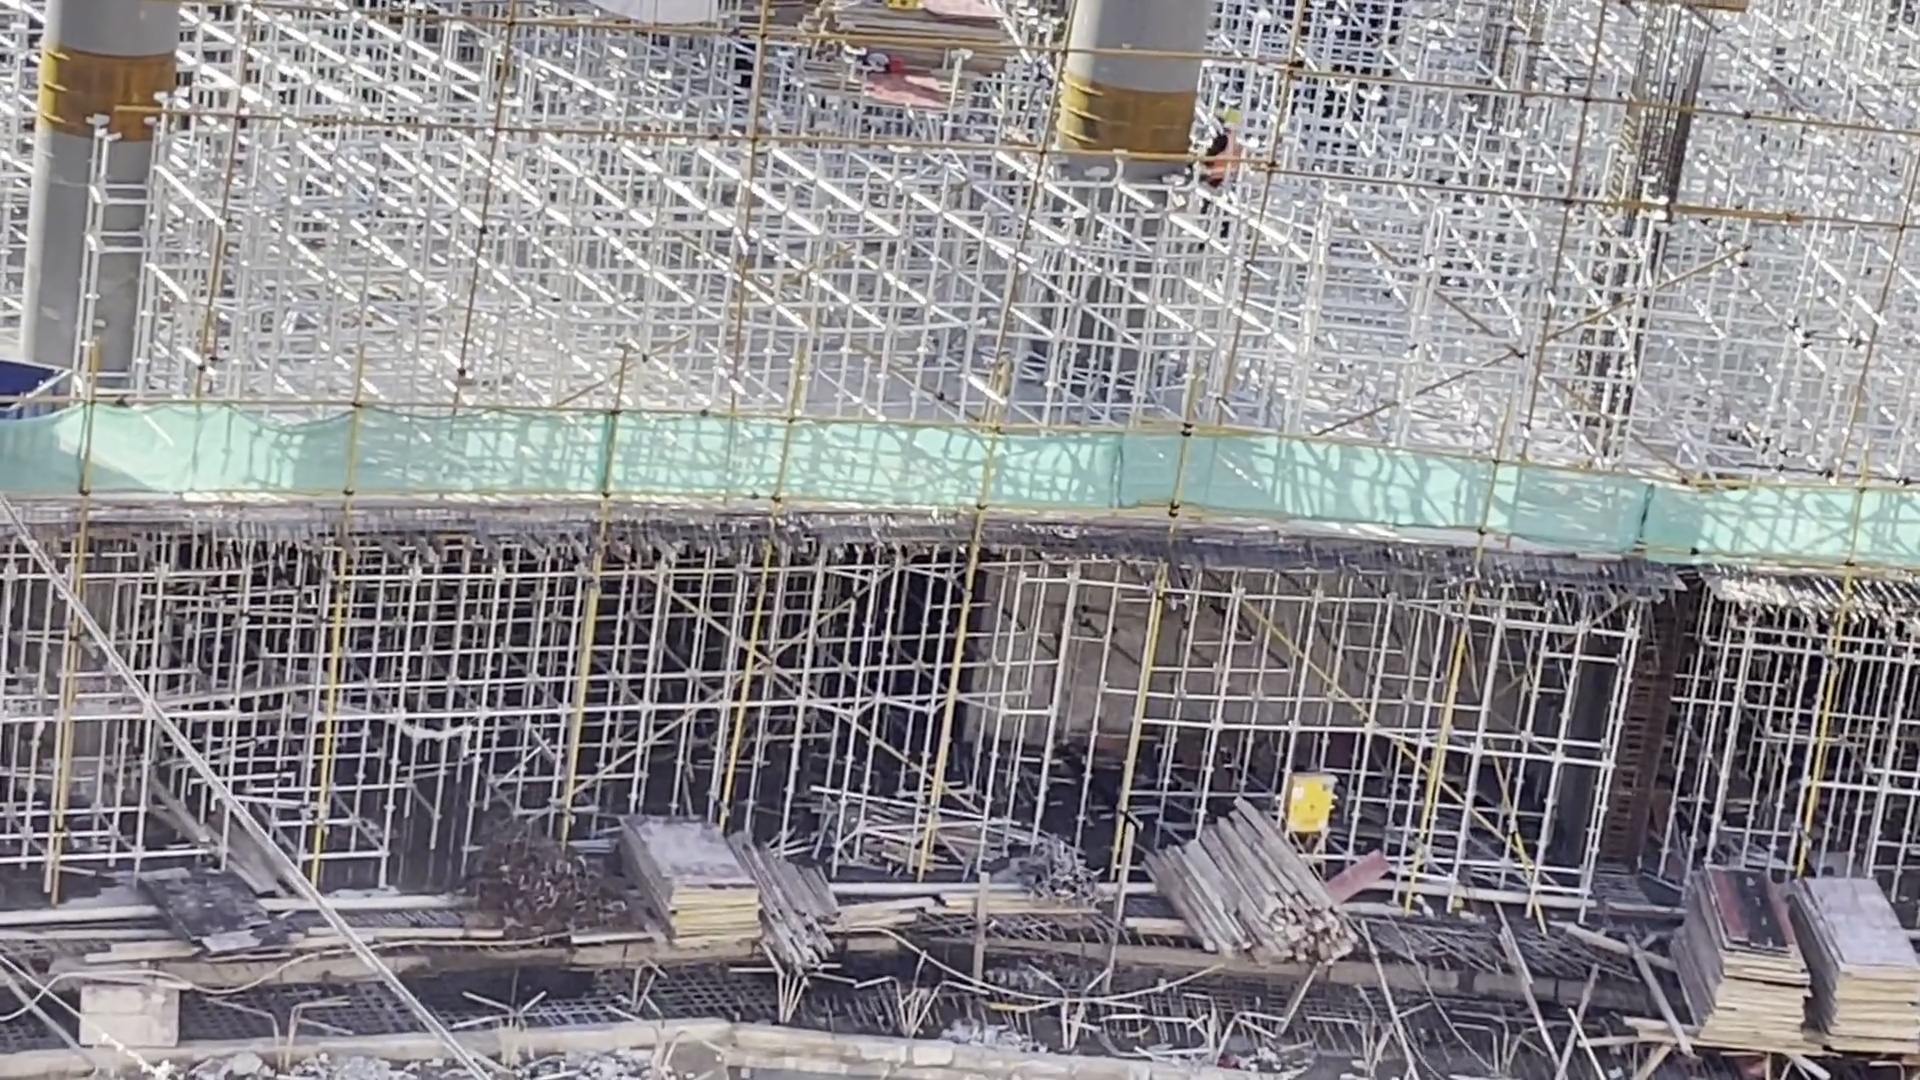board: (1672, 856, 1808, 1051), (1803, 865, 1920, 1058), (615, 814, 759, 958), (812, 1, 1021, 88)
ebox: (1273, 764, 1326, 854)
helmet: (1222, 105, 1243, 128)
hopper: (1, 356, 74, 425)
person: (1197, 101, 1243, 221)
vest: (1198, 130, 1239, 198)
wood: (1147, 798, 1352, 973)
